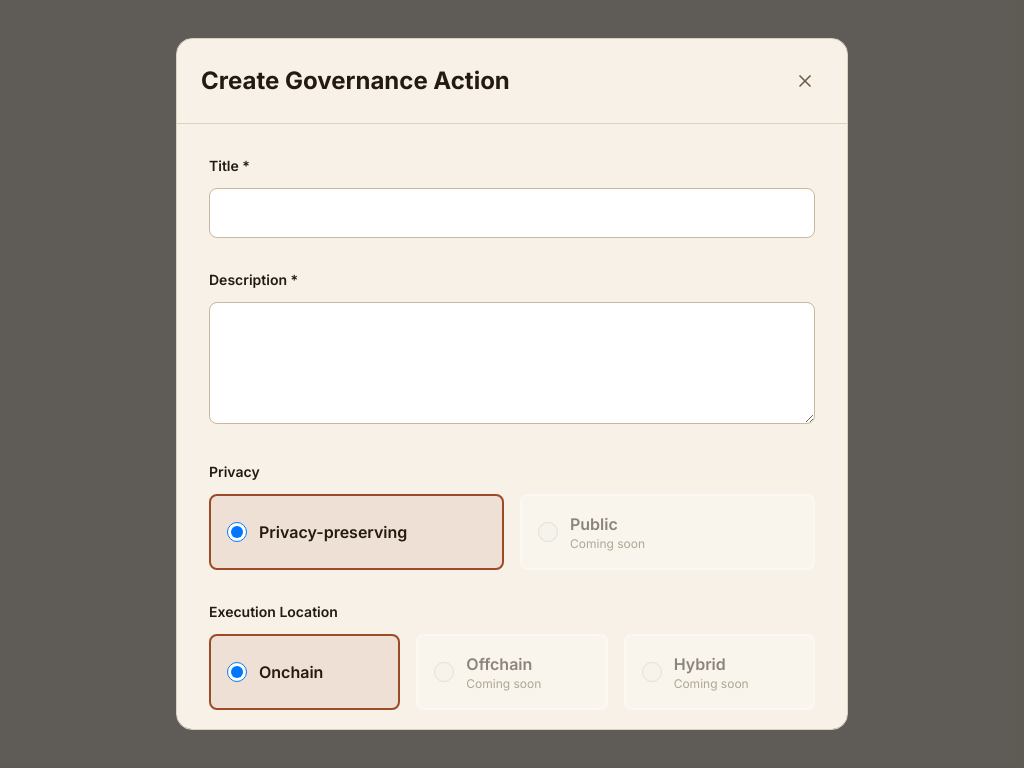
CreateProposalModal › signs the wallet out when creating a draft fails with an expired session (401)
Type "Fund the garden" into the field labelled "Title *".
click(512, 213); type("Fund the garden")  # box [209, 188, 815, 238]
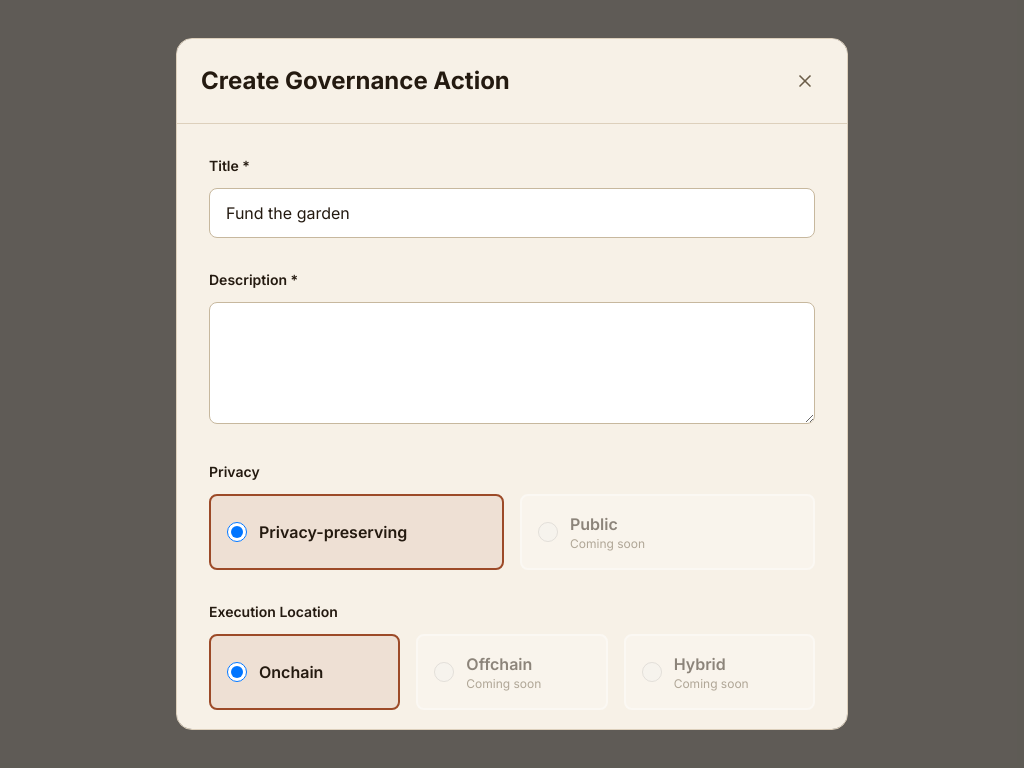
Type "Details here" into the text box labelled "Description *".
click(512, 363); type("Details here")  # box [209, 302, 815, 424]
(page scrolled)
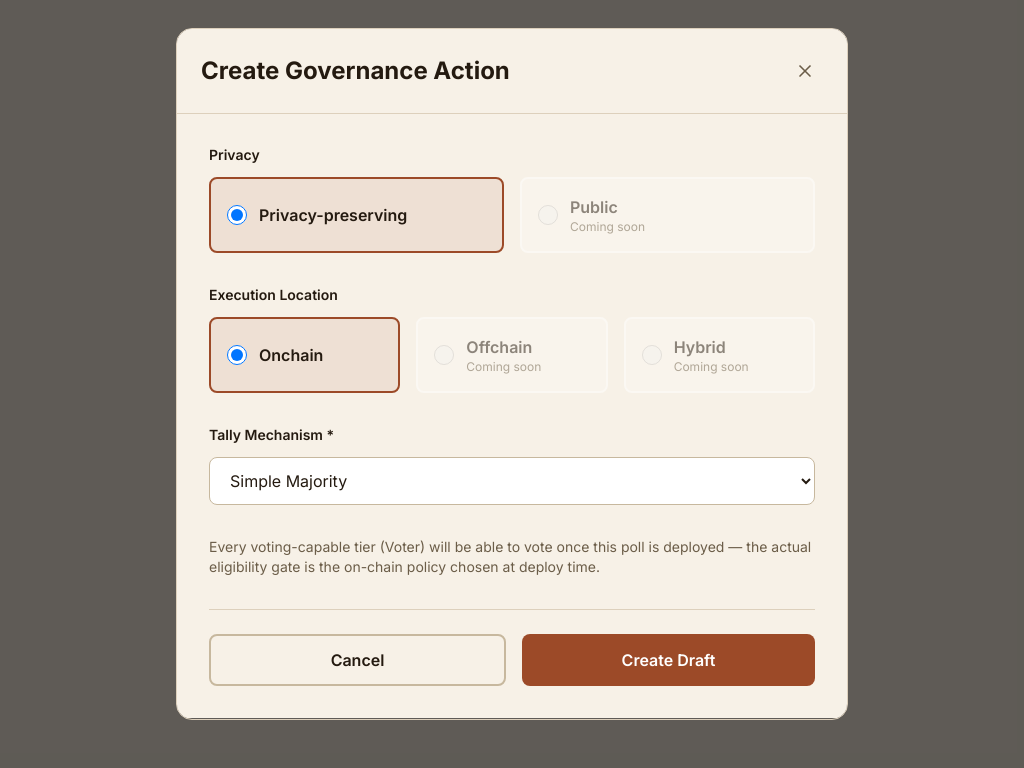
Click the button "Create Draft".
click(668, 660)  # box [522, 634, 815, 686]
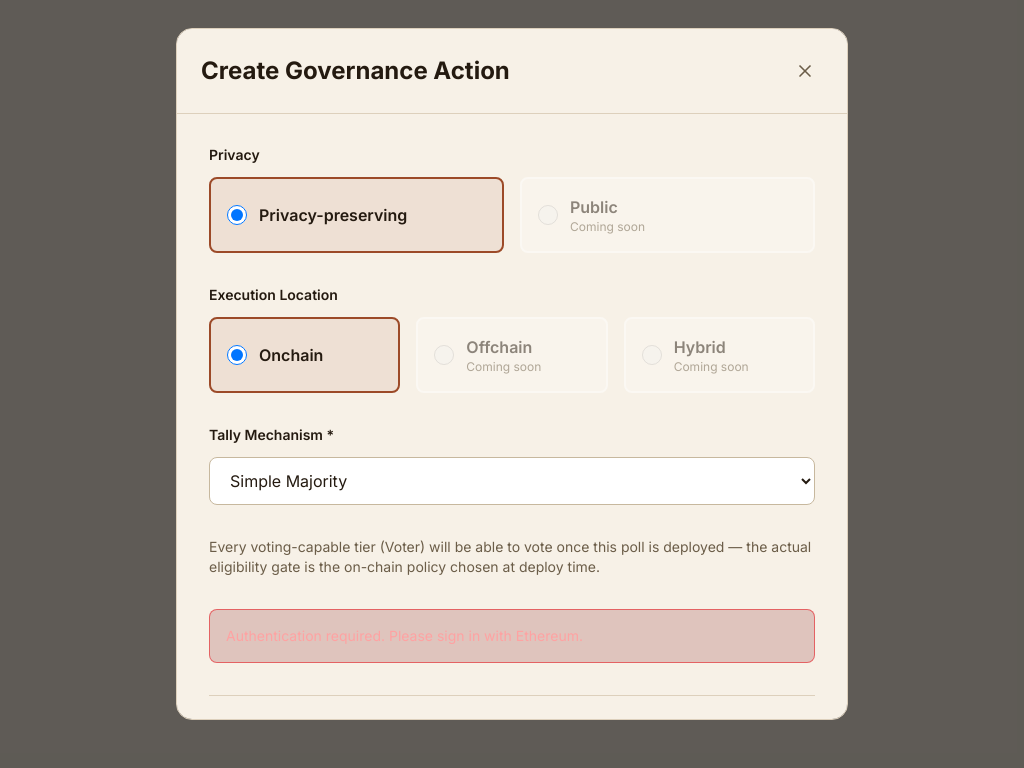
Check: the text "Authentication required. Please sign in with Ethereum." is shown, box [226, 627, 583, 644]
